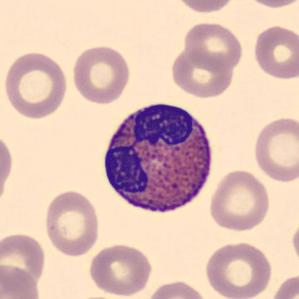Eosinophil: (96, 94, 220, 223)
RBC: (2, 48, 70, 120), (201, 239, 274, 299), (207, 167, 271, 233), (42, 188, 102, 258), (70, 43, 133, 105), (87, 241, 155, 298), (168, 47, 238, 99), (251, 113, 298, 184), (182, 20, 245, 72), (0, 230, 48, 290), (251, 23, 298, 82), (0, 262, 42, 299), (146, 278, 210, 299), (0, 129, 15, 206), (172, 0, 239, 15), (270, 272, 298, 299), (289, 215, 299, 270), (240, 0, 299, 9), (71, 294, 126, 299)
